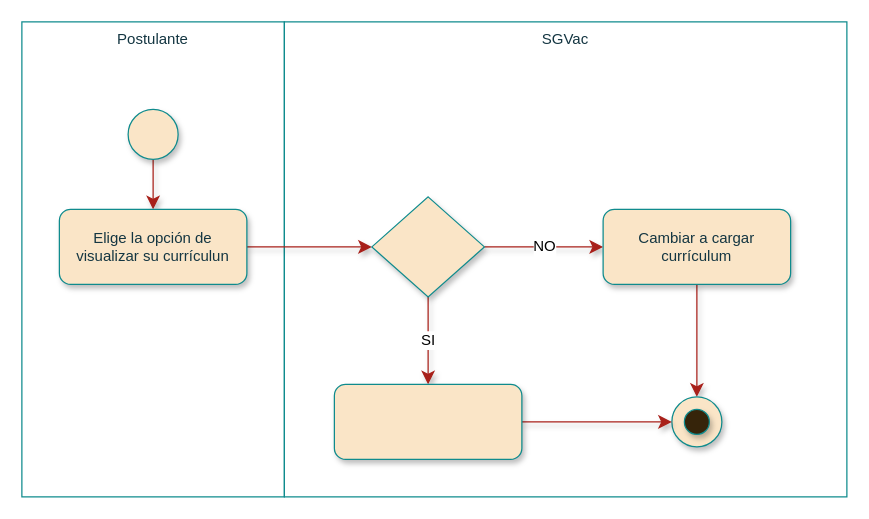
Image size: 869x519. Some labels were removed from this diagram. The centre of each missing label's shape, as x and y in pixels:
Hay currículum ?: pixel 429 248
Muestra el currículum: pixel 428 423
